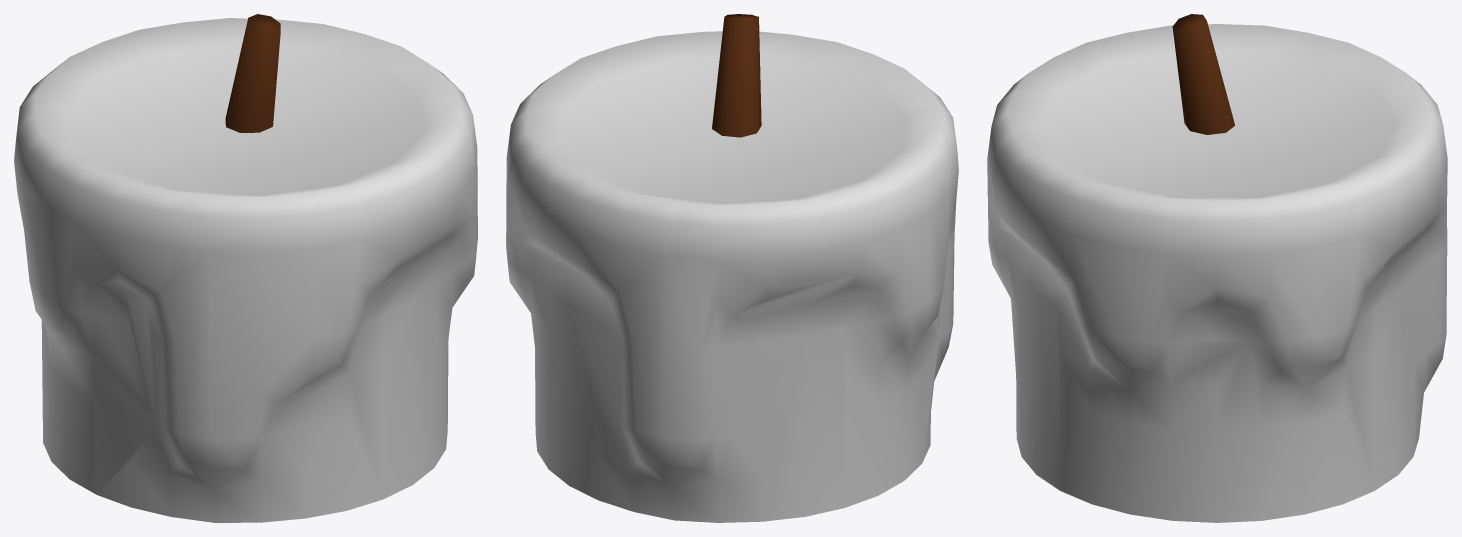
The model's file is Candle.fbx.
3 views of the same model, side by side, from view 1: azimuth 30°, elevation 25°; view 2: azimuth 150°, elevation 25°; view 3: azimuth 270°, elevation 25° (orthographic). The views are drawn at different scales.
Parts seen in each view (by area): view 1: Cylinder.051; view 2: Cylinder.051; view 3: Cylinder.051.
Boxes of the visible parts, x1=… form: Cylinder.051: x1=14, y1=14, x2=477, y2=522; Cylinder.051: x1=506, y1=14, x2=958, y2=522; Cylinder.051: x1=987, y1=14, x2=1447, y2=522.
Size of the model in its own units: 14.54 by 14.71 by 14.53.
